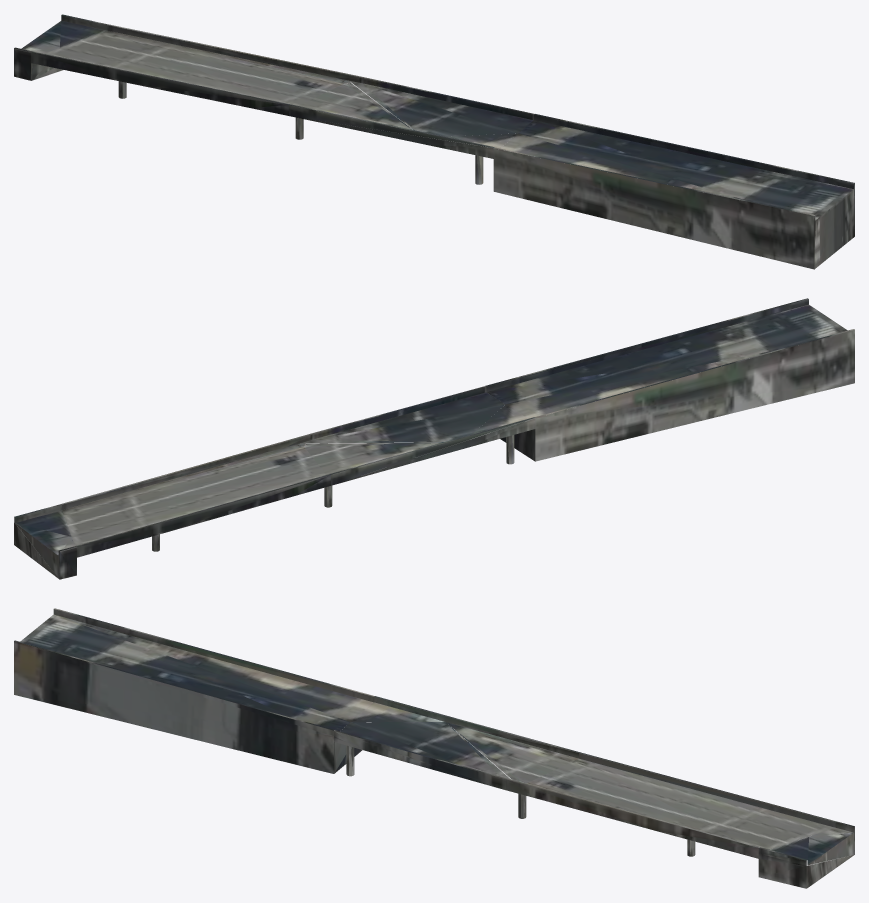
The model's file is bridge_1_2.glb.
The picture shows the model from 3 angles, top to bottom: view 1: azimuth 90°, elevation 25°; view 2: azimuth 150°, elevation 25°; view 3: azimuth 270°, elevation 25°; orthographic projection.
Bounding box in the file's own units: 87.97 × 9.7 × 138.
Materials: 2 (1 with a texture image).
